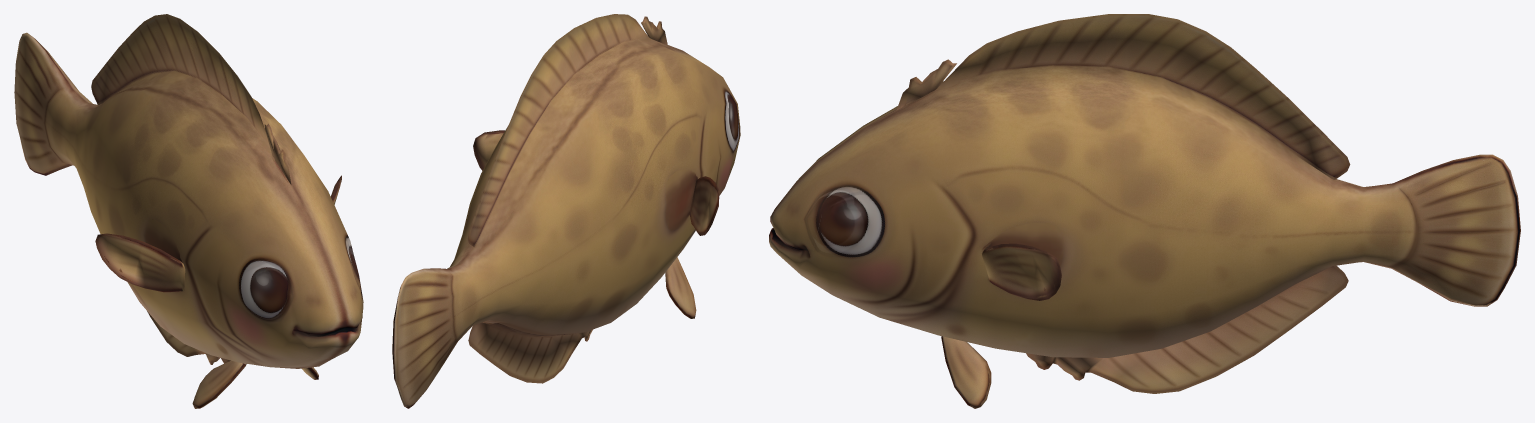
The model's file is flounder_01.fbx.
The picture shows the model from 3 angles, left to right: view 1: azimuth 30°, elevation 25°; view 2: azimuth 150°, elevation 25°; view 3: azimuth 270°, elevation 25°; orthographic projection. The views are drawn at different scales.
Parts seen in each view (by area): view 1: flounder_01; view 2: flounder_01; view 3: flounder_01.
Boxes of the visible parts, x1,y1,x2,y2 form: flounder_01: [14, 14, 363, 408]; flounder_01: [392, 14, 740, 408]; flounder_01: [769, 14, 1520, 408].
Bounding box in the file's own units: 42.77 × 55.66 × 99.8.
